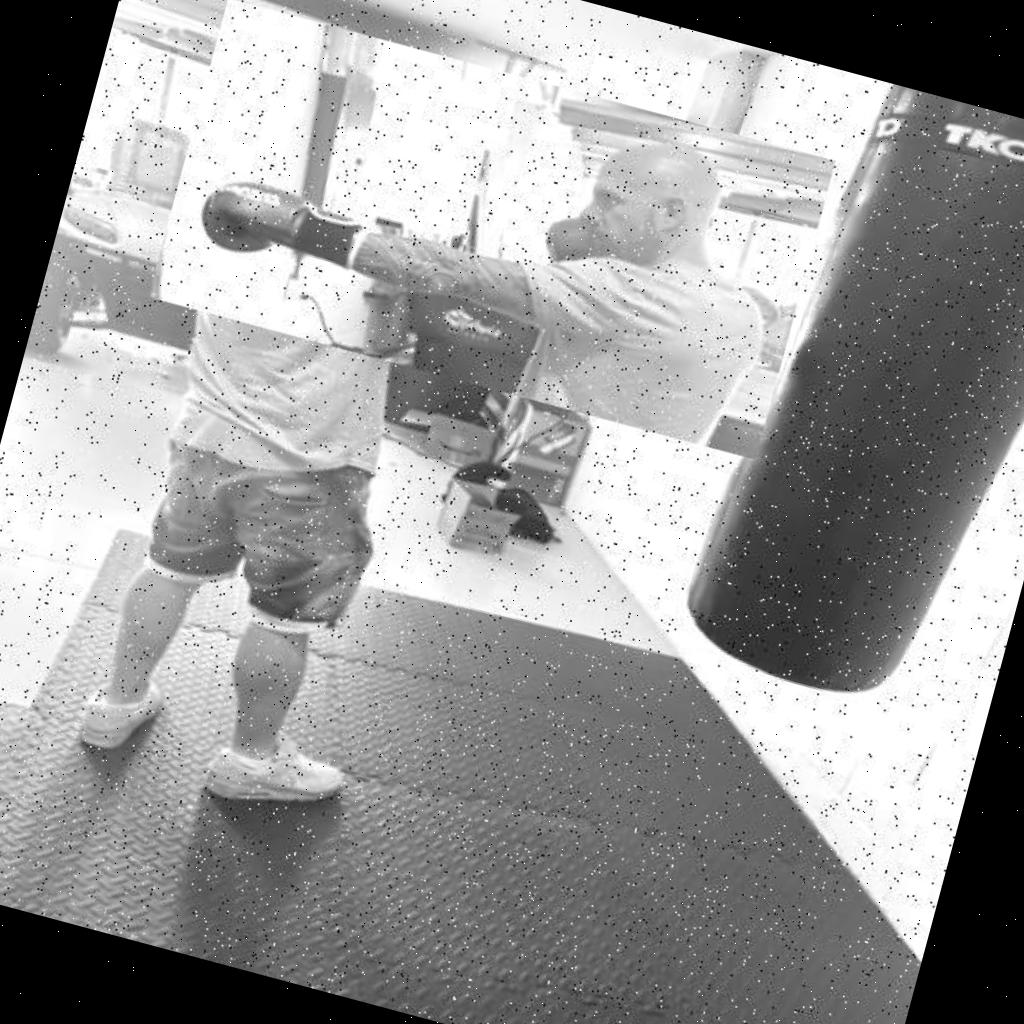jab: (148, 0, 835, 459)
